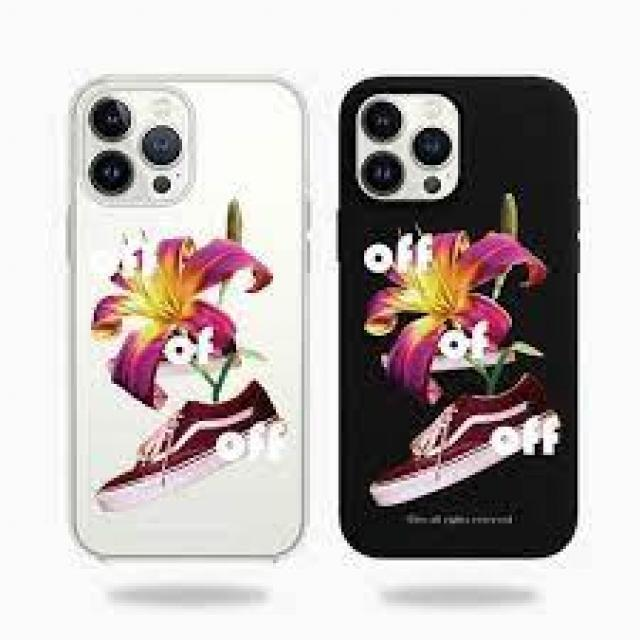phone: (329, 69, 587, 567), (62, 69, 316, 571)
